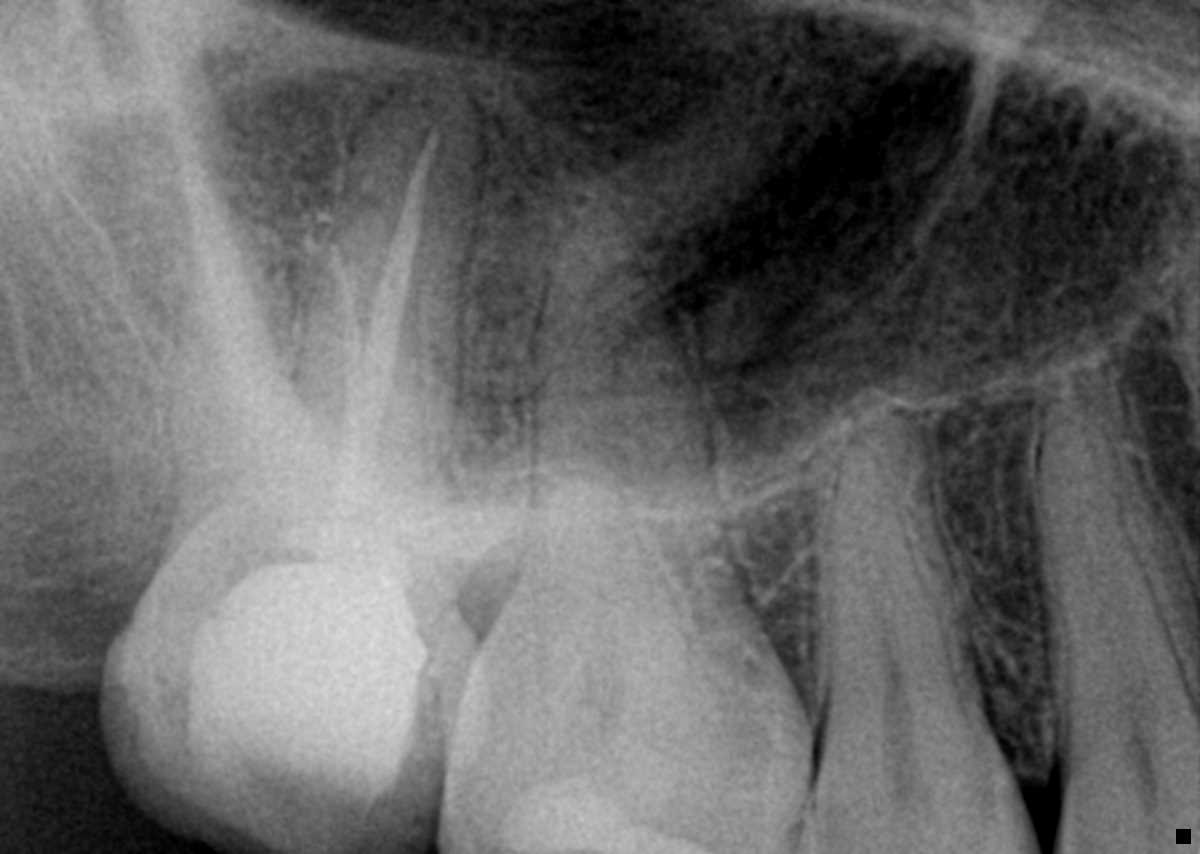Distal Root: (170, 194, 310, 541)
Main Canal: (870, 544, 917, 763)
Main Root: (1037, 415, 1200, 757), (818, 435, 983, 754), (867, 403, 988, 747)
Mesial Root: (298, 211, 427, 535)
Palatal Root: (497, 174, 762, 674), (250, 55, 481, 592)
Root Canal Filling: (311, 125, 438, 569), (326, 246, 376, 502)
